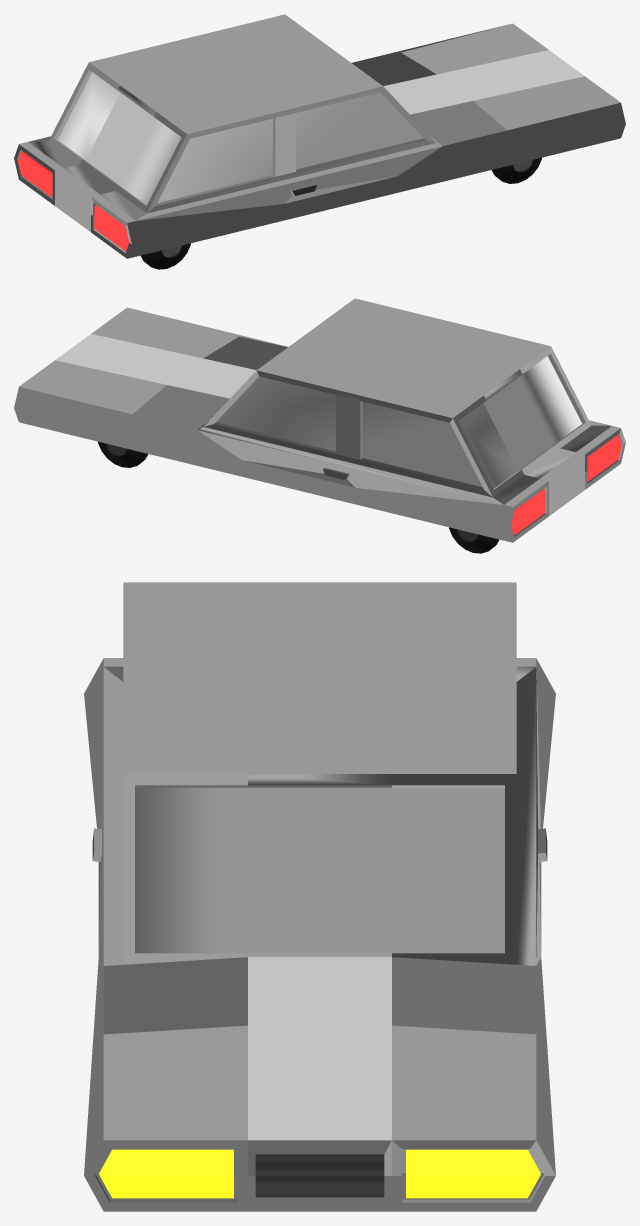
The model's file is car2.fbx.
The picture shows the model from 3 angles, top to bottom: view 1: azimuth 30°, elevation 25°; view 2: azimuth 150°, elevation 25°; view 3: azimuth 270°, elevation 25°; orthographic projection. The views are drawn at different scales.
Parts seen in each view (by area): view 1: Cube, Cylinder; view 2: Cube, Cylinder; view 3: Cube.
Part boxes in pixels (x1,y1,x2,y2): Cube: (14, 14, 625, 258); Cylinder: (141, 157, 541, 269); Cube: (14, 298, 625, 542); Cylinder: (98, 441, 498, 553); Cube: (84, 582, 555, 1211).
Bounding box in the file's own units: 580 × 148 × 240.
